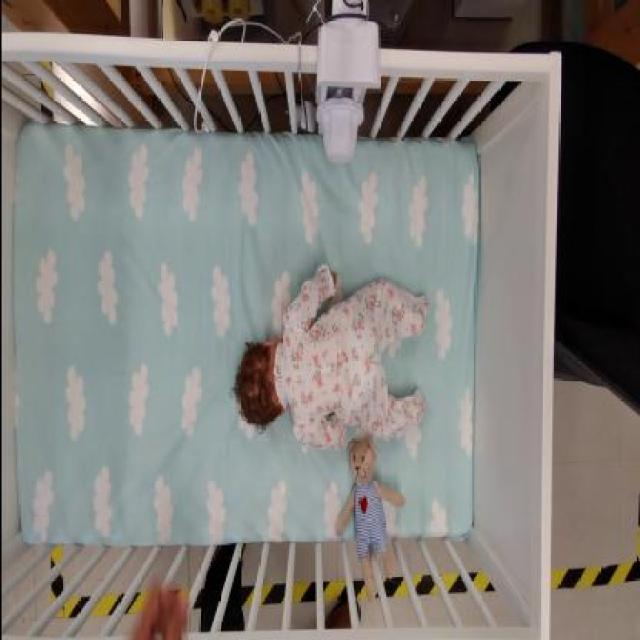baby: (229, 263, 428, 452)
